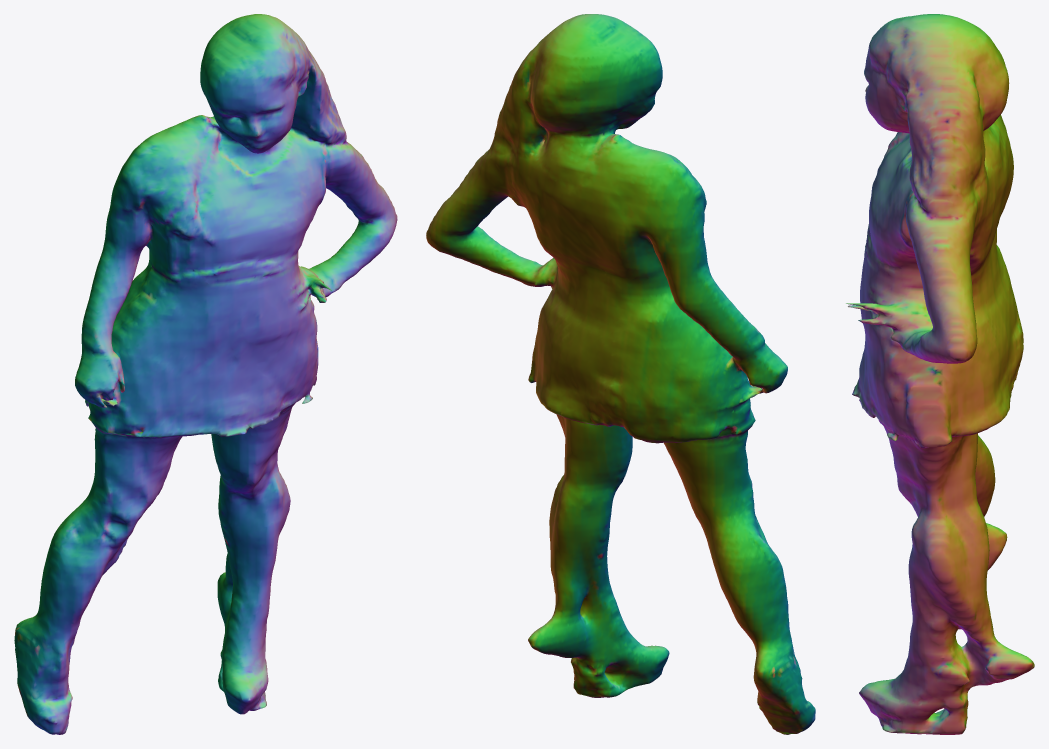
File: pifuhd-ariana-256-clean.glb
The picture shows the model from 3 angles, left to right: view 1: azimuth 30°, elevation 25°; view 2: azimuth 150°, elevation 25°; view 3: azimuth 270°, elevation 25°; orthographic projection. The views are drawn at different scales.
Parts seen in each view (by area): view 1: avatar_merged; view 2: avatar_merged; view 3: avatar_merged.
Part boxes in pixels (left/top/right/bottom): avatar_merged: left=14, top=14, right=397, bottom=734; avatar_merged: left=426, top=14, right=815, bottom=734; avatar_merged: left=846, top=14, right=1034, bottom=734.
Size of the model in its own units: 1.05 by 1.8 by 0.4295.
